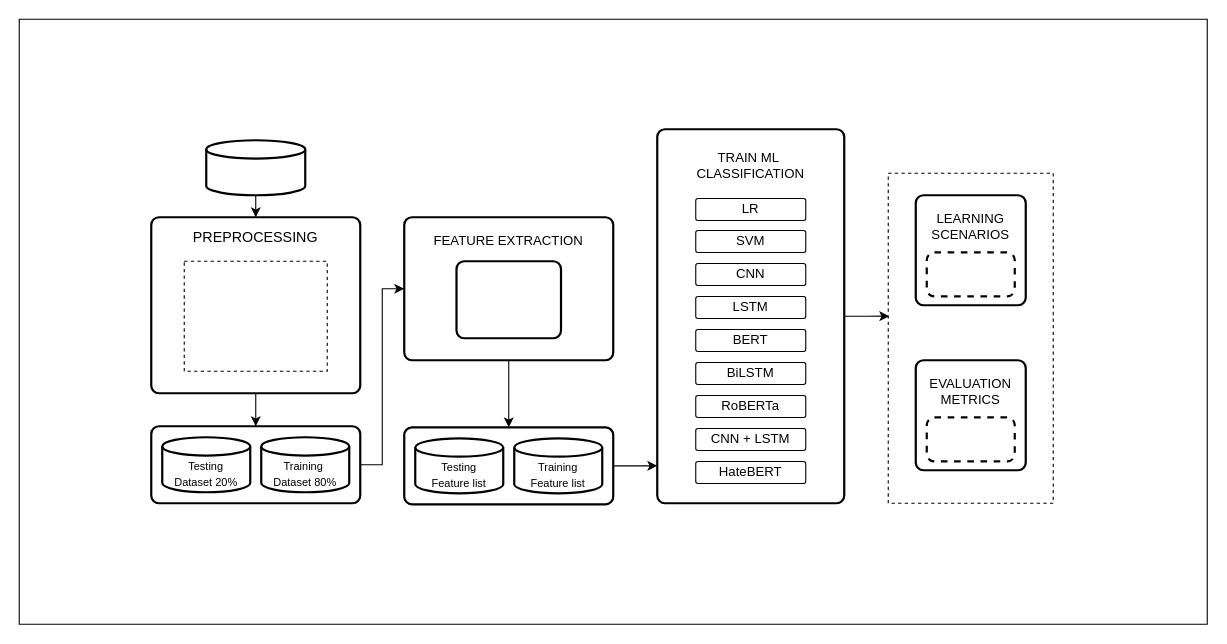
Some shapes in this 1227 by 644 pixel diagram are drawn without their labels. Each missing label, with the centre of its shape:
"acc, precision, recall, f1 score" goes at point 970,439.
"Dataset" goes at point 255,167.
"Multi - Label Classification" goes at point 970,274.
"Normalization Tokenization Lemmatization Stop word removal" goes at point 255,315.
"TF-IDF Word2Vec BPE N-Grams" goes at point 508,299.
